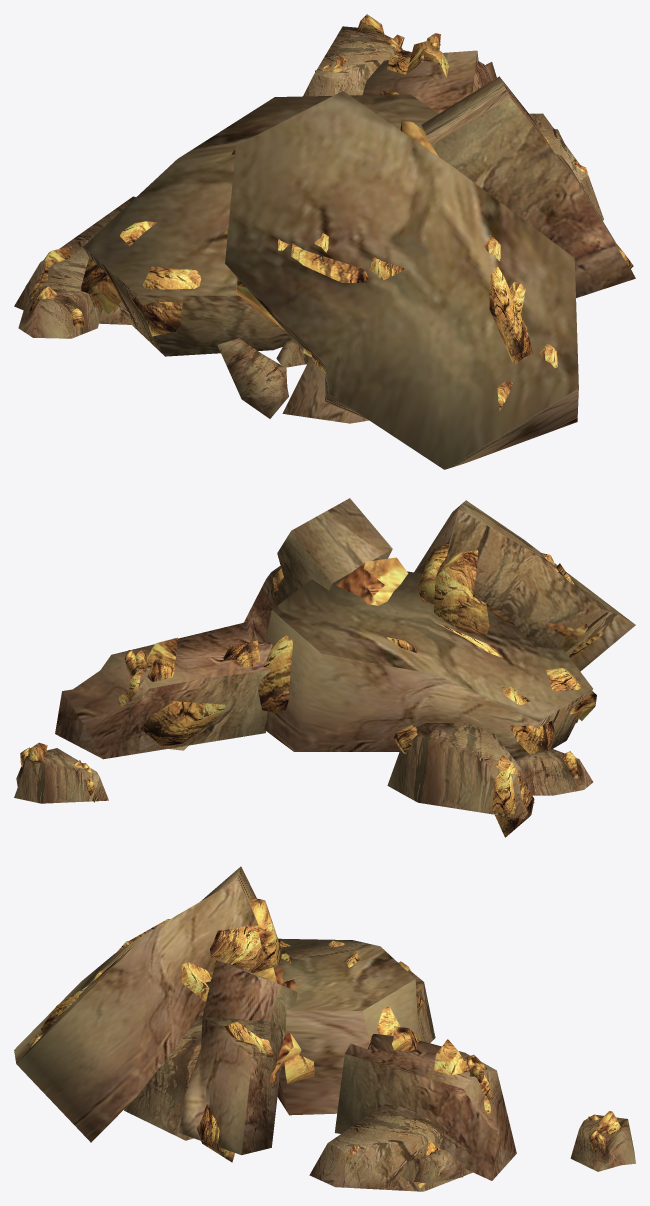
File: S_Rock_Yellow048.FBX
3 views of the same model, one above another, from view 1: azimuth 30°, elevation 25°; view 2: azimuth 150°, elevation 25°; view 3: azimuth 270°, elevation 25° (orthographic). The views are drawn at different scales.
Visible parts, largest first — view 1: S_Rock_Yellow048; view 2: S_Rock_Yellow048; view 3: S_Rock_Yellow048.
Part boxes in pixels (x1,y1,x2,y2): S_Rock_Yellow048: (14, 14, 635, 469); S_Rock_Yellow048: (14, 498, 635, 837); S_Rock_Yellow048: (14, 866, 635, 1191).
Size of the model in its own units: 591 by 728 by 277.
